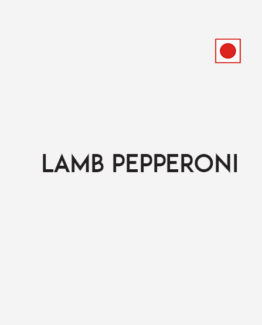nonveg_red: (214, 37, 243, 64)
